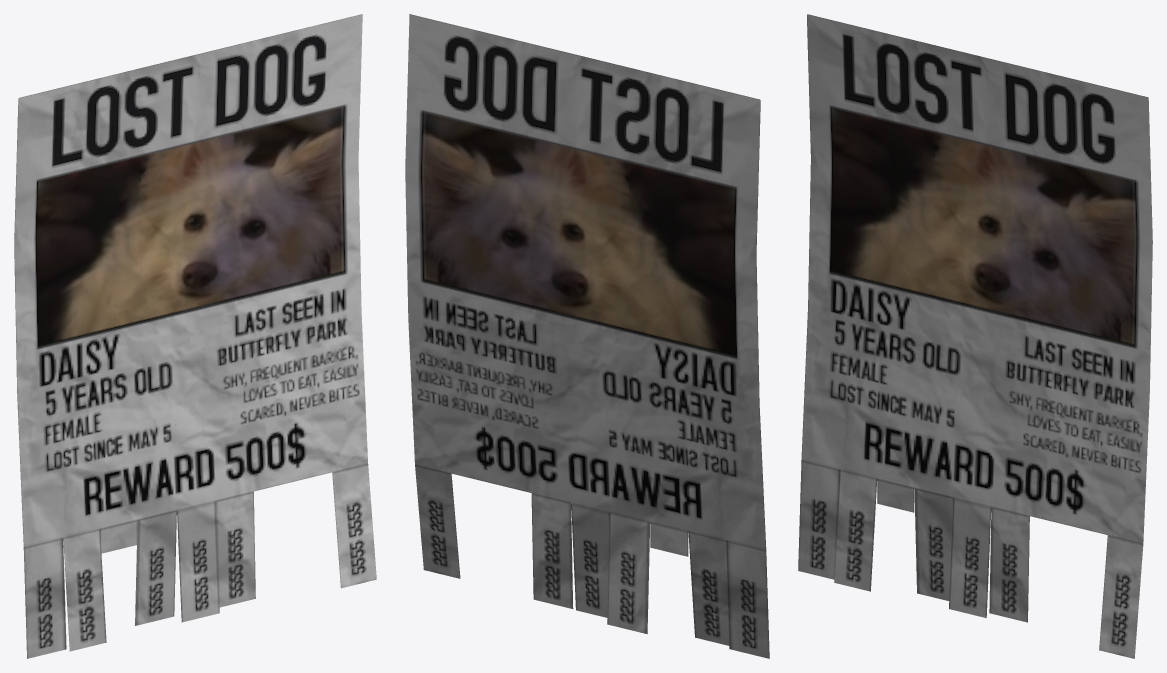
File: daisy's_poster.FBX
3 renders of one model, left to right at view 1: azimuth 30°, elevation 25°; view 2: azimuth 150°, elevation 25°; view 3: azimuth 330°, elevation 25°, orthographic. The views are drawn at different scales.
Parts seen in each view (by area): view 1: daisy's_poster; view 2: daisy's_poster; view 3: daisy's_poster.
Part boxes in pixels (box(x1,y1,x2,y2)): daisy's_poster: box(14, 14, 376, 658); daisy's_poster: box(405, 14, 769, 658); daisy's_poster: box(798, 14, 1152, 658).
Size of the model in its own units: 27.51 by 42.39 by 2.52.
